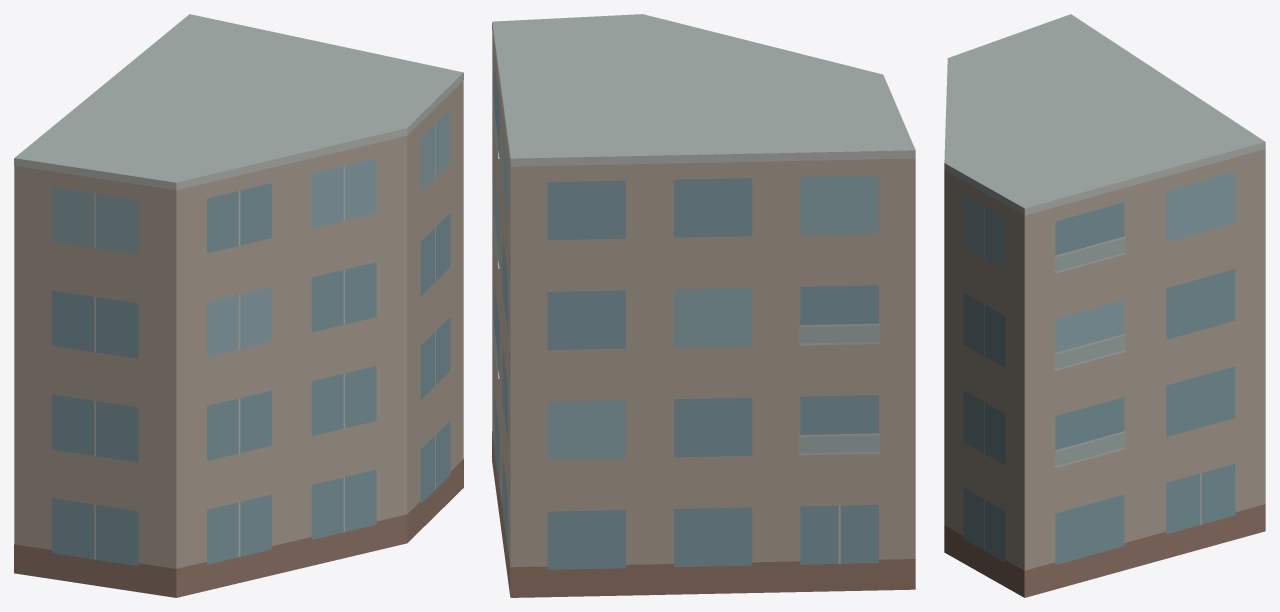
The model's file is survey-upis-32681223.glb.
3 views of the same model, side by side, from view 1: azimuth 30°, elevation 25°; view 2: azimuth 150°, elevation 25°; view 3: azimuth 270°, elevation 25° (orthographic). The views are drawn at different scales.
Visible parts, largest first — view 1: survey-upis-32681223.tmp; view 2: survey-upis-32681223.tmp; view 3: survey-upis-32681223.tmp.
Boxes of the visible parts, box(x1,y1,x2,y2) form: survey-upis-32681223.tmp: box(14, 14, 463, 597); survey-upis-32681223.tmp: box(492, 14, 915, 597); survey-upis-32681223.tmp: box(944, 14, 1265, 597).
Bounding box in the file's own units: 14.2 × 13.25 × 9.92.
